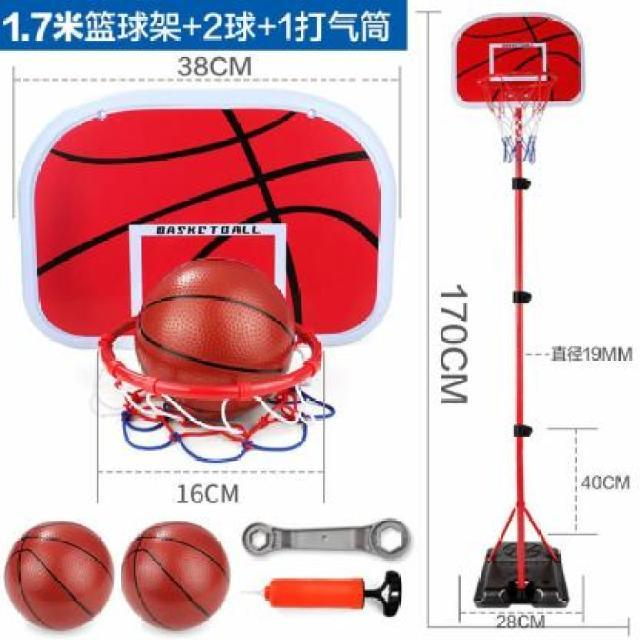basketball: (134, 254, 298, 423), (120, 520, 232, 632), (4, 520, 114, 632)
rim: (477, 74, 557, 162)
